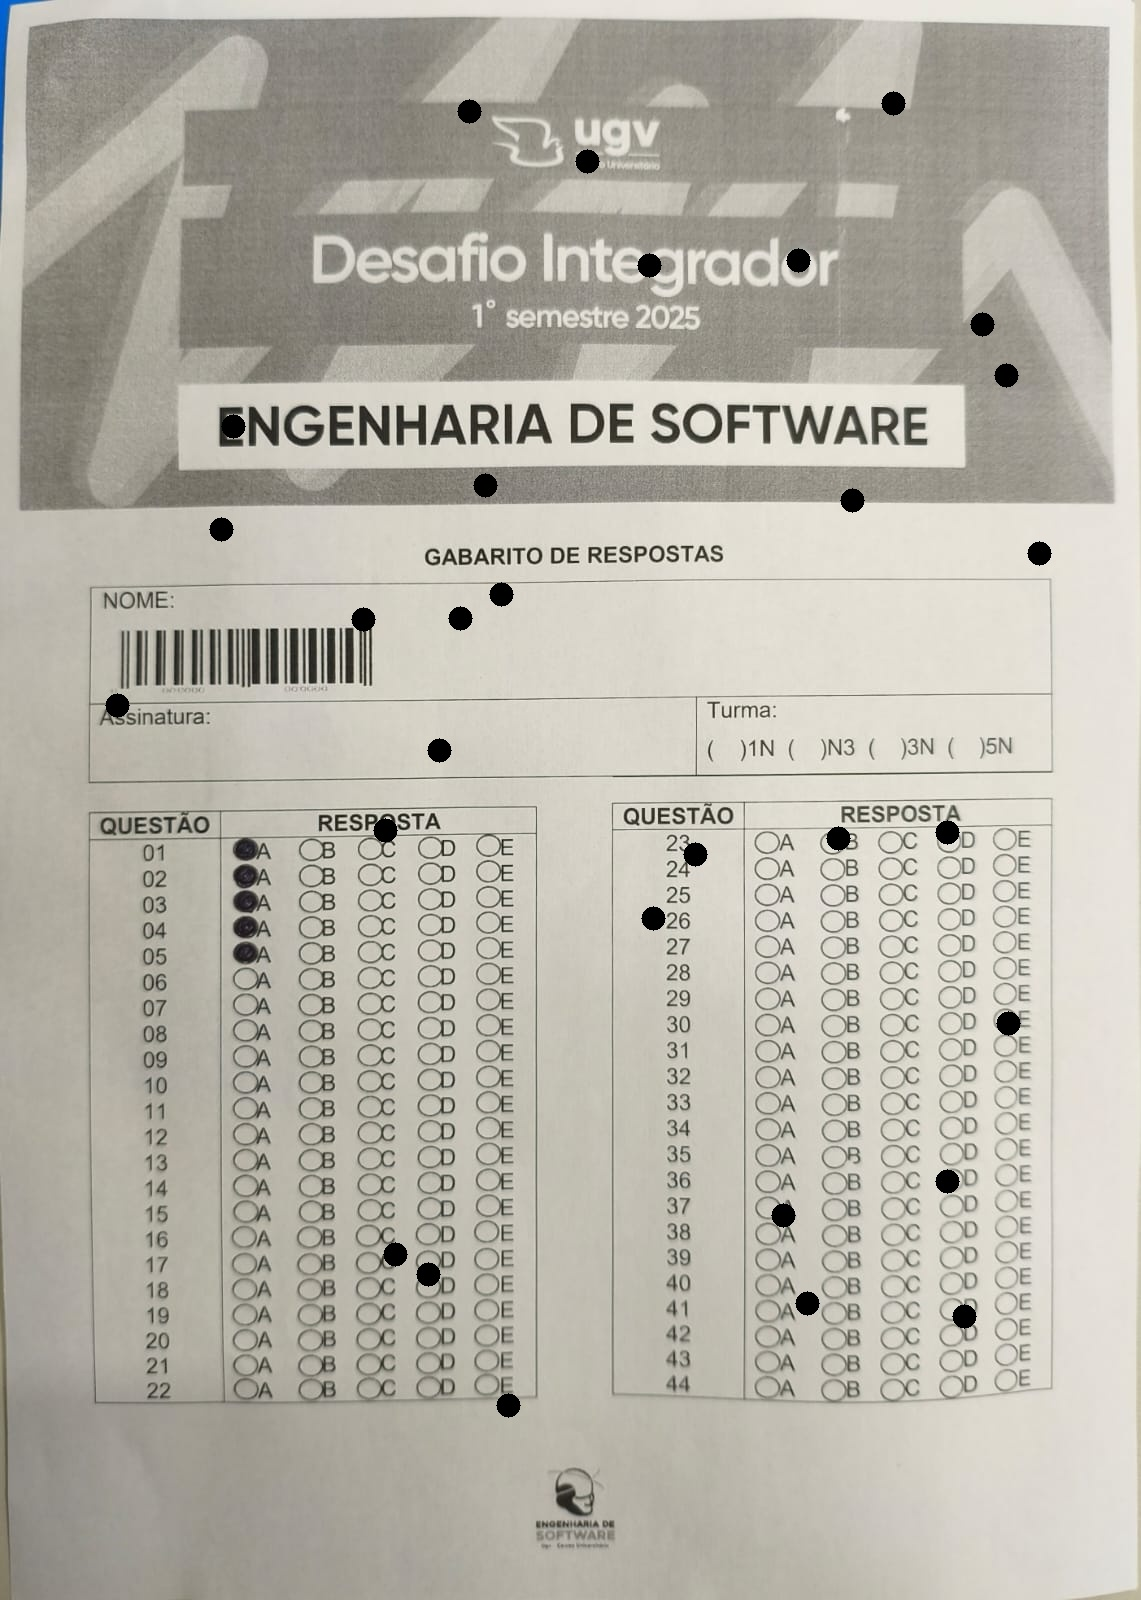bolinha: (457, 94, 482, 128), (935, 815, 959, 849), (840, 483, 864, 517), (771, 1199, 795, 1232), (383, 1237, 407, 1270), (935, 1164, 959, 1198), (683, 837, 708, 870), (641, 901, 666, 935), (880, 86, 905, 120), (351, 602, 375, 636), (209, 512, 233, 546), (952, 1299, 976, 1333), (221, 409, 244, 443), (105, 688, 128, 722), (496, 1388, 520, 1422), (416, 1257, 440, 1291), (1027, 536, 1051, 570), (637, 248, 661, 281), (994, 358, 1018, 391), (795, 1286, 819, 1320), (448, 601, 472, 635), (826, 821, 850, 854), (971, 307, 994, 341), (997, 1006, 1020, 1040), (473, 468, 496, 501), (427, 733, 451, 767), (575, 144, 599, 178), (489, 578, 512, 611), (787, 243, 810, 277), (373, 814, 396, 847)
